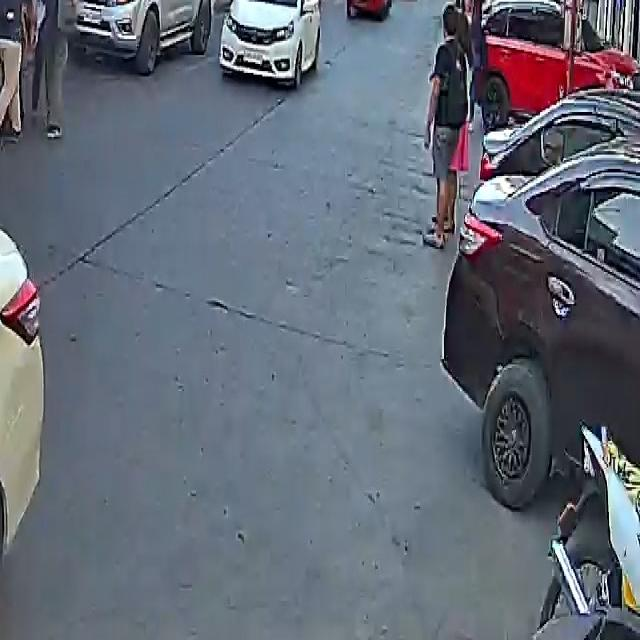car: (443, 73, 640, 517), (0, 91, 51, 638), (471, 0, 636, 128), (69, 0, 221, 76), (215, 0, 325, 84), (344, 0, 394, 16)
